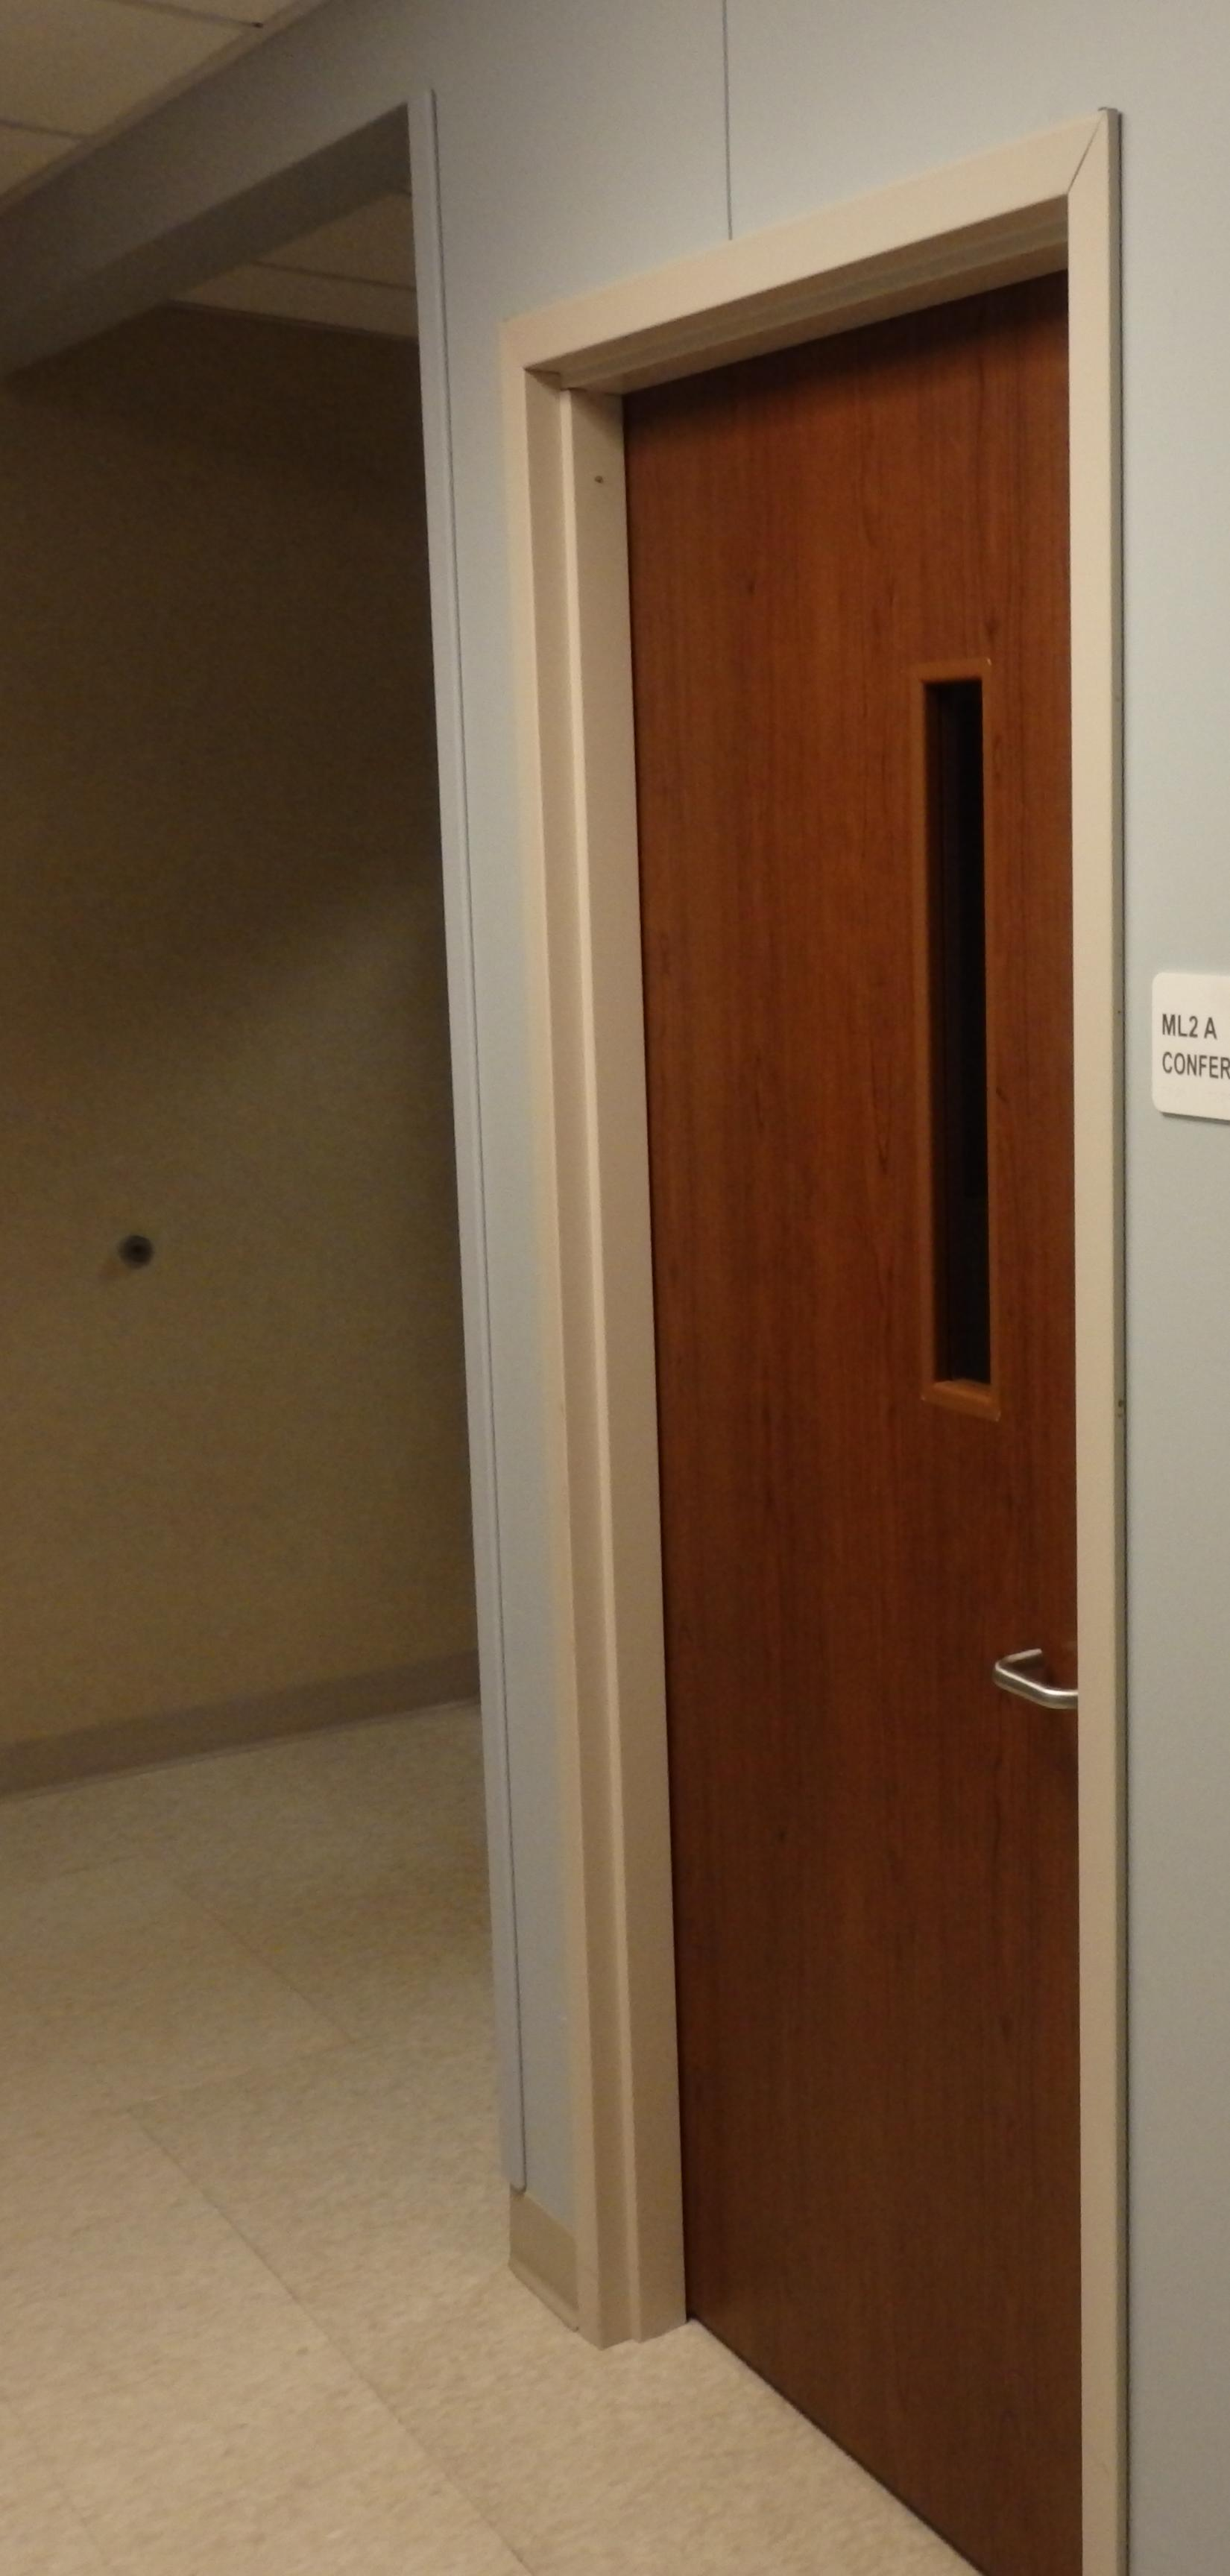door: (498, 118, 1123, 2576)
